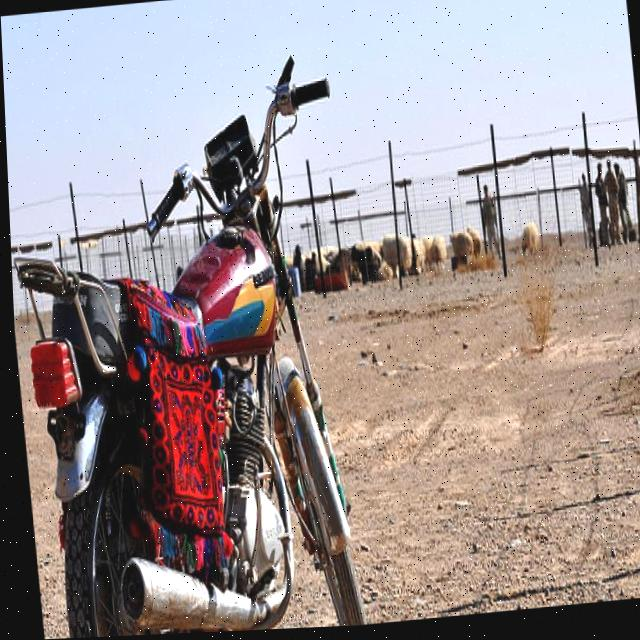motorcycle: (6, 113, 398, 640)
